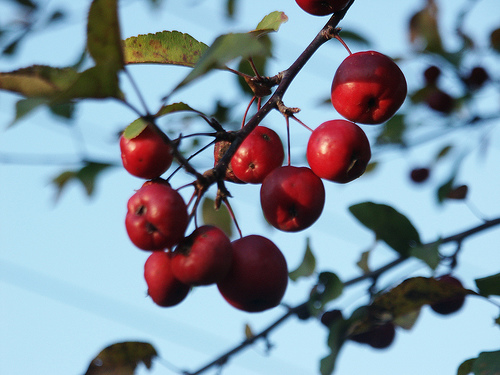apple: (328, 46, 414, 120), (119, 181, 197, 252), (259, 164, 330, 233), (302, 117, 372, 180)
